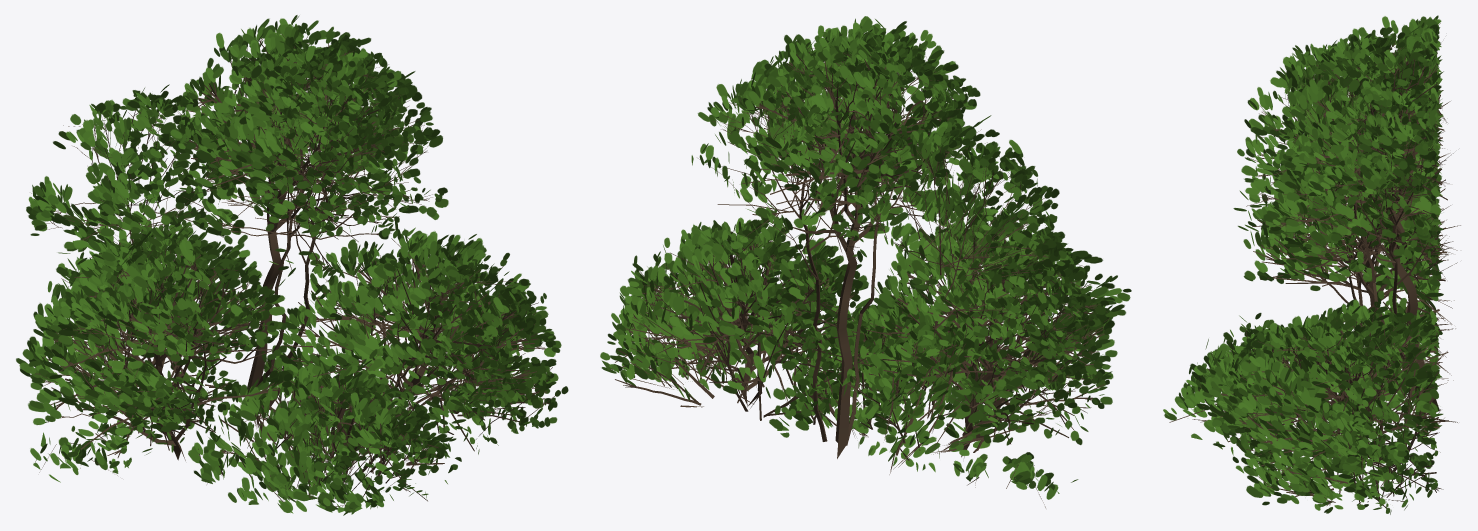
3 views of the same model, side by side, from view 1: azimuth 30°, elevation 25°; view 2: azimuth 150°, elevation 25°; view 3: azimuth 270°, elevation 25° (orthographic). The views are drawn at different scales.
Visible parts, largest first — view 1: oak 01.001_trunk_Mat.001_0.431; view 2: oak 01.001_trunk_Mat.001_0.431; view 3: oak 01.001_trunk_Mat.001_0.431.
Part boxes in pixels (x1,y1,x2,y2): oak 01.001_trunk_Mat.001_0.431: [16, 15, 568, 515]; oak 01.001_trunk_Mat.001_0.431: [600, 16, 1131, 507]; oak 01.001_trunk_Mat.001_0.431: [1163, 15, 1460, 514].
Bounding box in the file's own units: 5.31 × 4.25 × 2.92.
2 materials, 1 textured.
